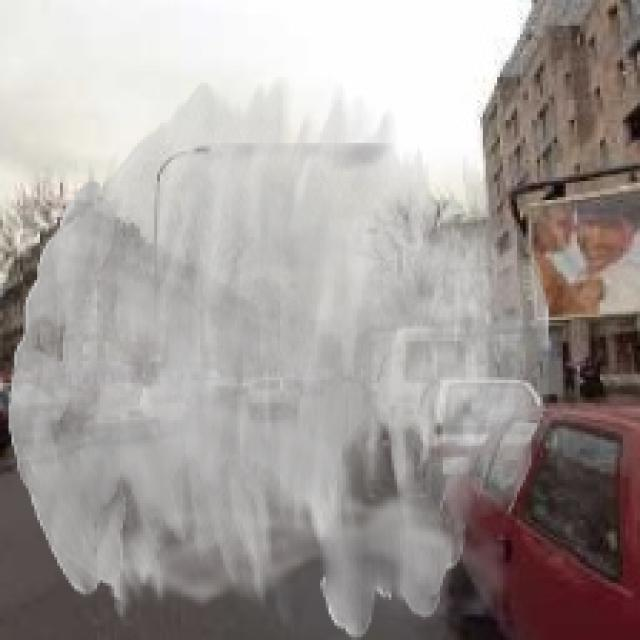Smoke: (8, 77, 554, 637)
